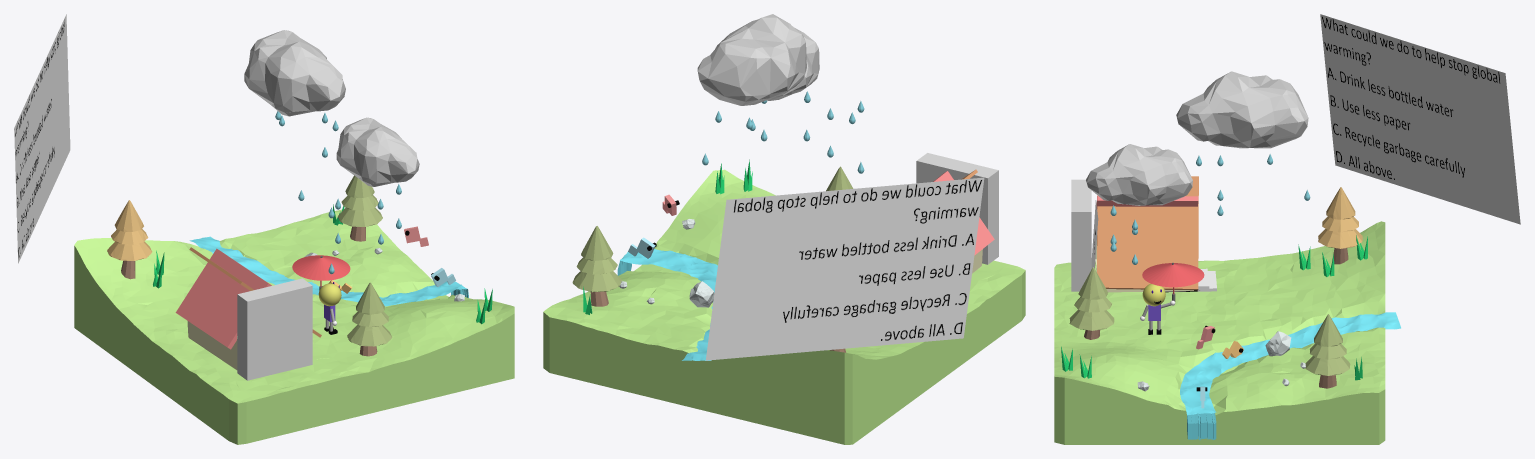
The model's file is rainQ9.glb.
3 views of the same model, side by side, from view 1: azimuth 30°, elevation 25°; view 2: azimuth 150°, elevation 25°; view 3: azimuth 270°, elevation 25° (orthographic). The views are drawn at different scales.
Parts seen in each view (by area): view 1: terrain, pPlane2, Cube, cloud, house:pCube6, clouds:pPlatonic1, water, umbrella:Mesh, house:pCube4, pCylinder1, trees:pCylinder8, trees:pCylinder1 (+2 smaller); view 2: terrain, pPlane2, cloud, Cube, water, clouds:pPlatonic1, trees:pCylinder1, trees:pCylinder4, trees:pCylinder3, stone:pPlatonic2, house:pCube6; view 3: terrain, pPlane2, cloud, house:pCube5, clouds:pPlatonic1, water, Cube, umbrella:Mesh, pCylinder1, trees:pCylinder8, trees:pCylinder1, trees:pCylinder7 (+7 smaller).
Part boxes in pixels (x1,y1,x2,y2): terrain: (74, 209, 514, 444); pPlane2: (14, 14, 70, 263); Cube: (237, 278, 312, 380); cloud: (244, 30, 345, 116); house:pCube6: (175, 248, 271, 349); clouds:pPlatonic1: (336, 117, 419, 186); water: (189, 236, 468, 306); umbrella:Mesh: (292, 255, 350, 286); house:pCube4: (187, 321, 237, 369); pCylinder1: (347, 324, 392, 346); trees:pCylinder8: (107, 241, 152, 260); trees:pCylinder1: (338, 207, 382, 226); terrain: (543, 169, 1025, 444); pPlane2: (705, 177, 984, 360); cloud: (697, 14, 806, 105); Cube: (916, 153, 998, 264); water: (617, 249, 717, 360); clouds:pPlatonic1: (767, 27, 819, 100); trees:pCylinder1: (572, 271, 622, 292); trees:pCylinder4: (581, 226, 613, 260); trees:pCylinder3: (576, 257, 617, 274); stone:pPlatonic2: (689, 281, 714, 307); house:pCube6: (933, 171, 994, 255); terrain: (1054, 221, 1385, 444); pPlane2: (1320, 14, 1520, 224); cloud: (1176, 71, 1308, 148); house:pCube5: (1097, 176, 1198, 290); clouds:pPlatonic1: (1086, 144, 1192, 205); water: (1180, 312, 1400, 440); Cube: (1071, 179, 1091, 291); umbrella:Mesh: (1142, 263, 1204, 294); pCylinder1: (1069, 310, 1114, 330); trees:pCylinder8: (1318, 228, 1362, 248); trees:pCylinder1: (1305, 356, 1350, 375); trees:pCylinder7: (1326, 187, 1355, 219).
Size of the model in its own units: 0.4613 by 0.3485 by 0.4738.
Materials: 30 (3 with a texture image).
